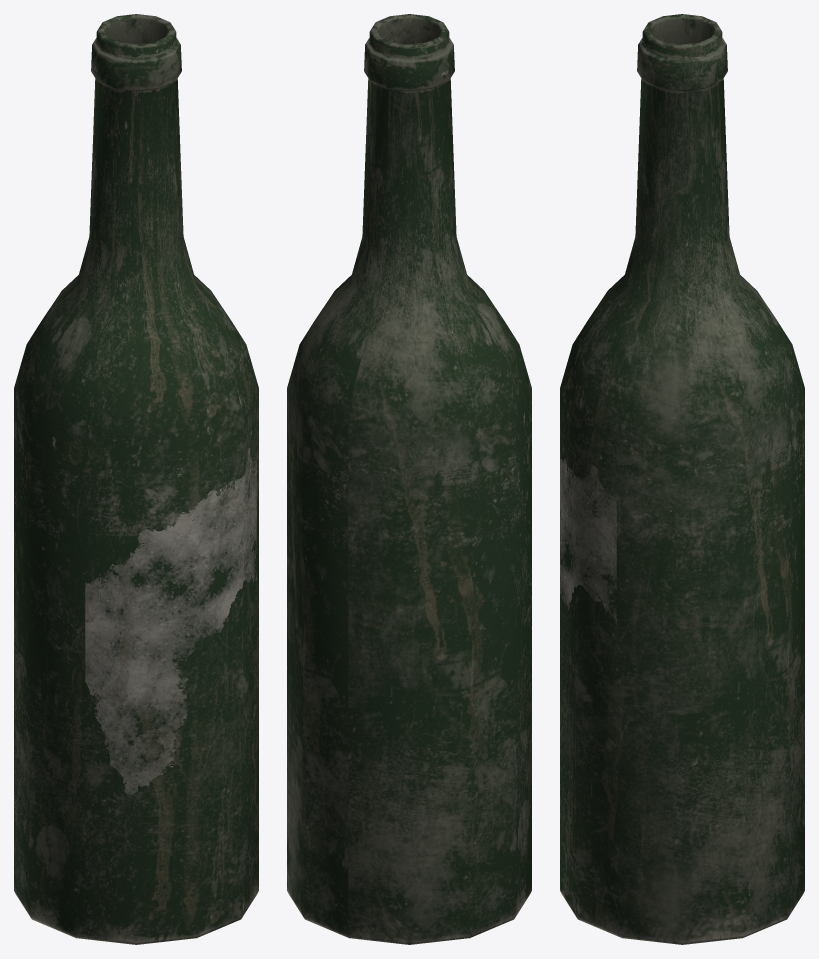
The model's file is Bottle.glb.
3 renders of one model, left to right at view 1: azimuth 30°, elevation 25°; view 2: azimuth 150°, elevation 25°; view 3: azimuth 270°, elevation 25°, orthographic.
Parts seen in each view (by area): view 1: Bottle_bottle1_0; view 2: Bottle_bottle1_0; view 3: Bottle_bottle1_0.
Boxes of the visible parts, left/top/right/bottom form: Bottle_bottle1_0: left=14, top=14, right=258, bottom=944; Bottle_bottle1_0: left=287, top=14, right=531, bottom=944; Bottle_bottle1_0: left=560, top=14, right=804, bottom=944.
Size of the model in its own units: 0.1935 by 0.7544 by 0.1935.
Materials: 1 (1 with a texture image).
